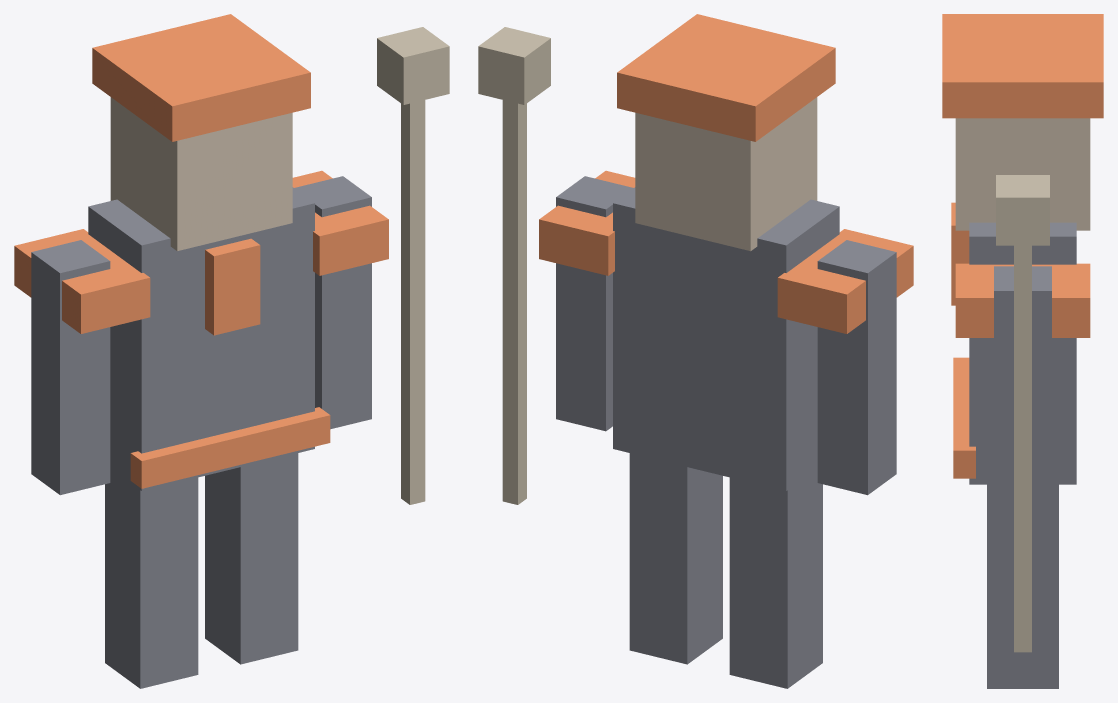
The model's file is 05_astra_voxmere_navigator_from_passenger.glb.
The picture shows the model from 3 angles, left to right: view 1: azimuth 30°, elevation 25°; view 2: azimuth 150°, elevation 25°; view 3: azimuth 270°, elevation 25°; orthographic projection.
Visible parts, largest first — view 1: Astra Voxmere, Navigator from Passenger; view 2: Astra Voxmere, Navigator from Passenger; view 3: Astra Voxmere, Navigator from Passenger.
Boxes of the visible parts, x1,y1,x2,y2 form: Astra Voxmere, Navigator from Passenger: (14,14,449,688); Astra Voxmere, Navigator from Passenger: (478,14,913,688); Astra Voxmere, Navigator from Passenger: (942,14,1103,688).
Size of the model in its own units: 1.1 by 1.61 by 0.3906.
